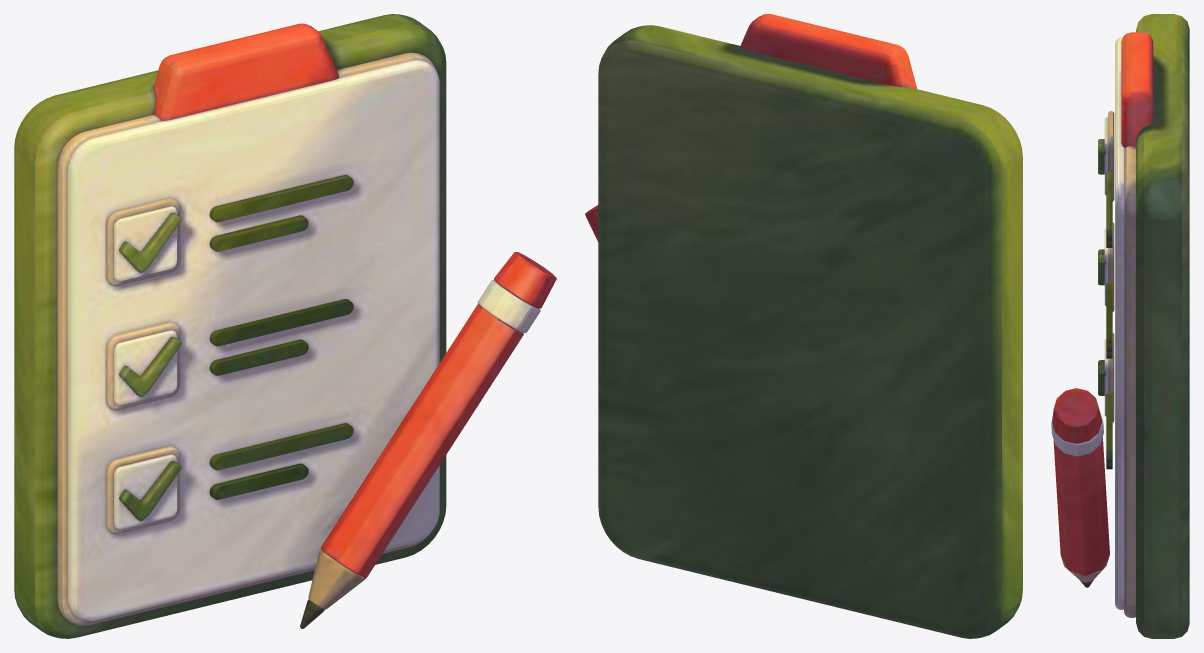
File: how-to.glb
3 renders of one model, left to right at view 1: azimuth 30°, elevation 25°; view 2: azimuth 150°, elevation 25°; view 3: azimuth 270°, elevation 25°, orthographic. The views are drawn at different scales.
Parts seen in each view (by area): view 1: Checklist field; view 2: Checklist field; view 3: Checklist field.
Boxes of the visible parts, x1,y1,x2,y2 form: Checklist field: (14, 14, 556, 638); Checklist field: (585, 14, 1022, 638); Checklist field: (1051, 14, 1189, 638).
Bounding box in the file's own units: 2.03 × 2.31 × 0.5681.
1 material, 1 textured.
